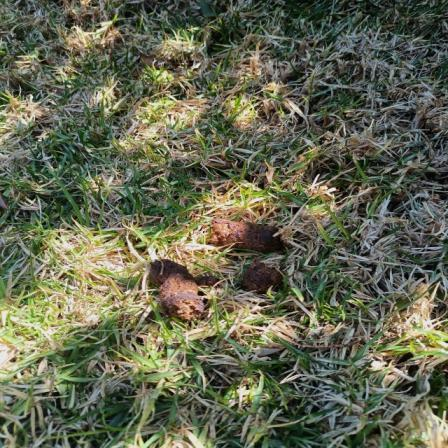dog-poop: (210, 205, 297, 297), (140, 249, 225, 326)
